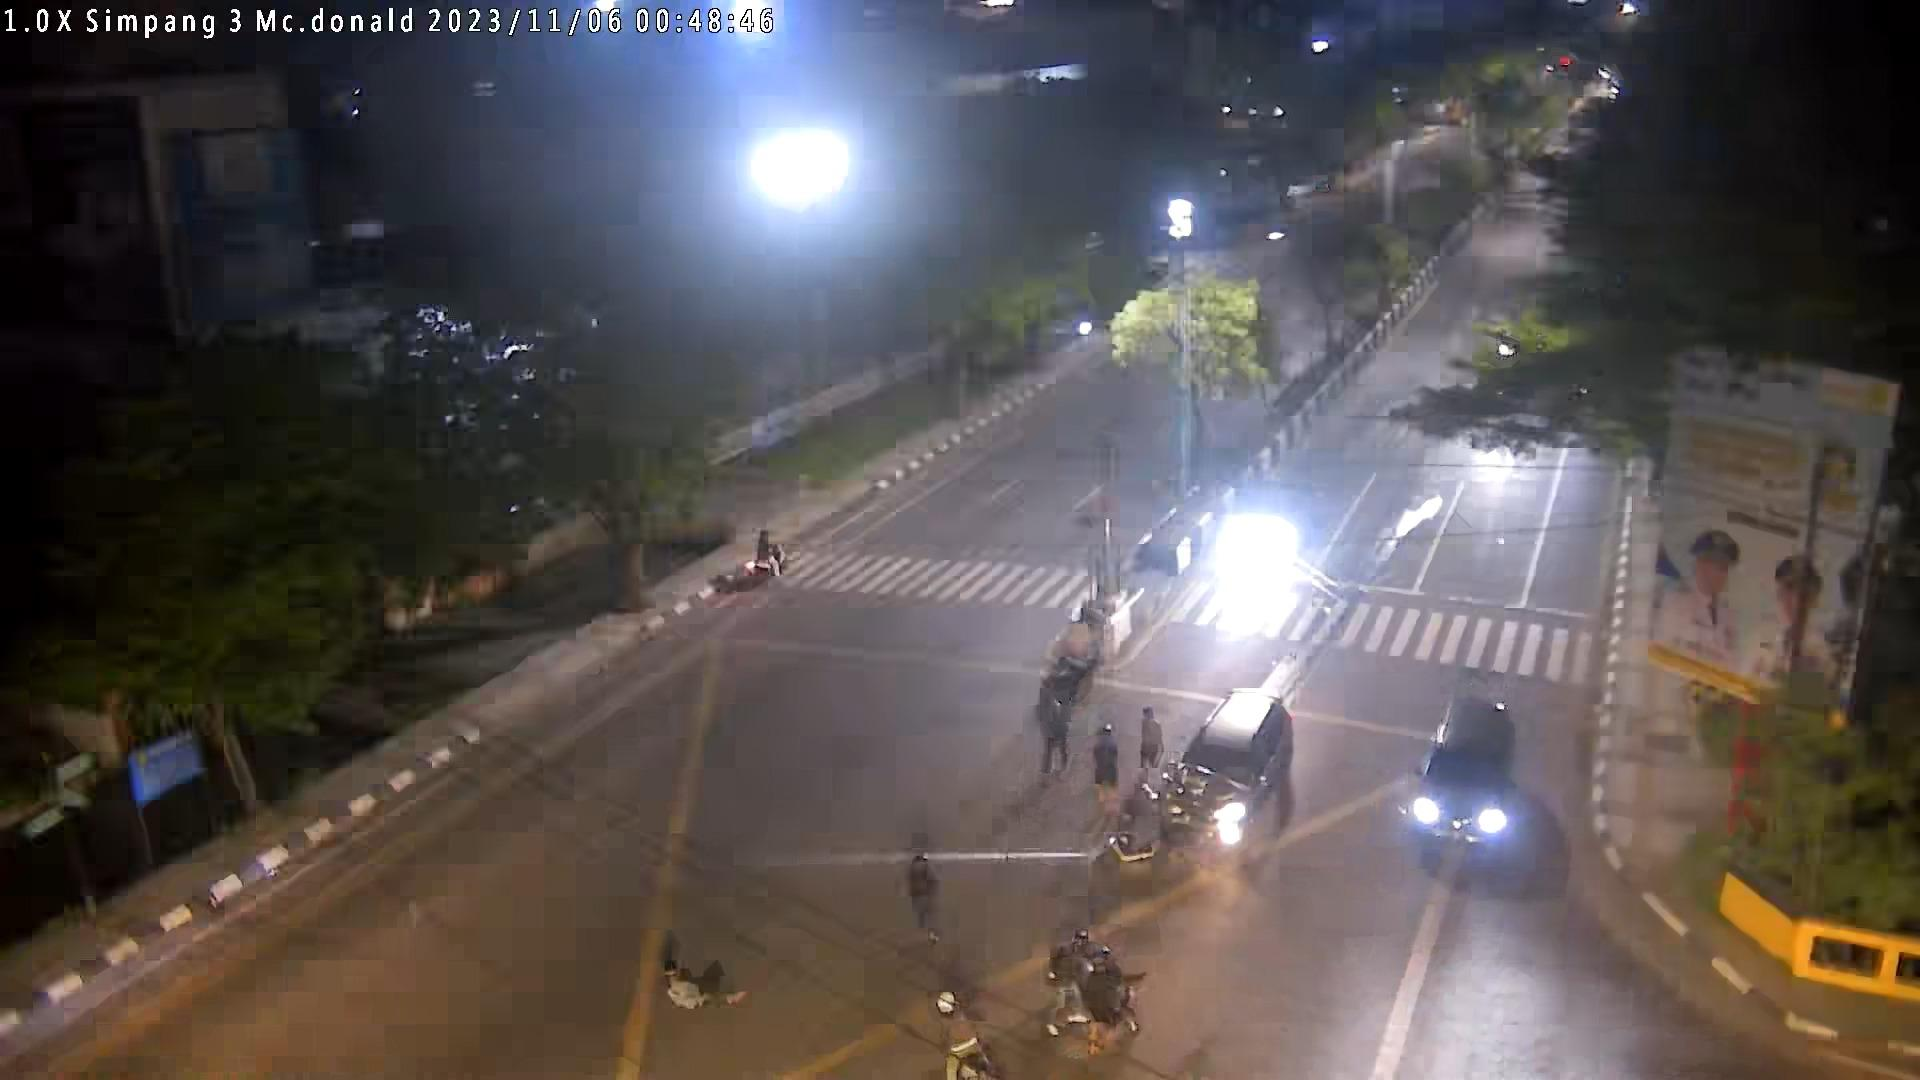accident: (663, 960, 750, 1013)
